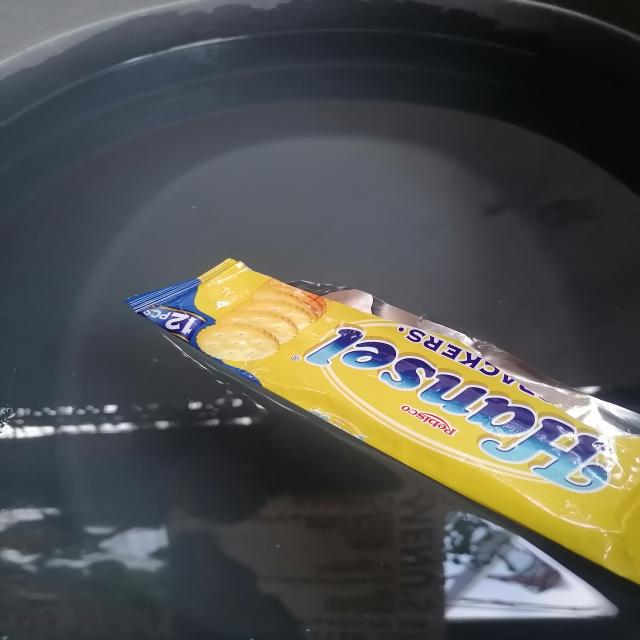Plastic Wrapper: (126, 259, 640, 583)
